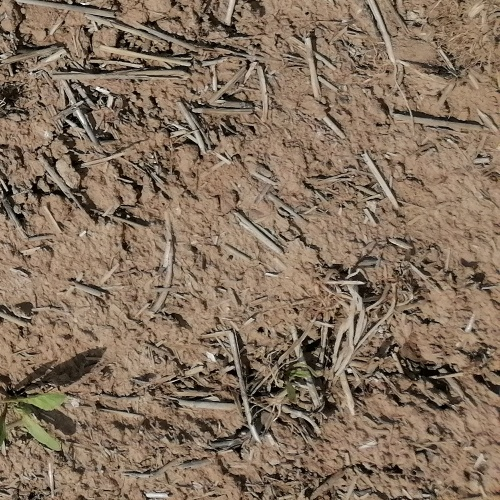beet: (0, 395, 65, 452), (284, 371, 310, 404)
